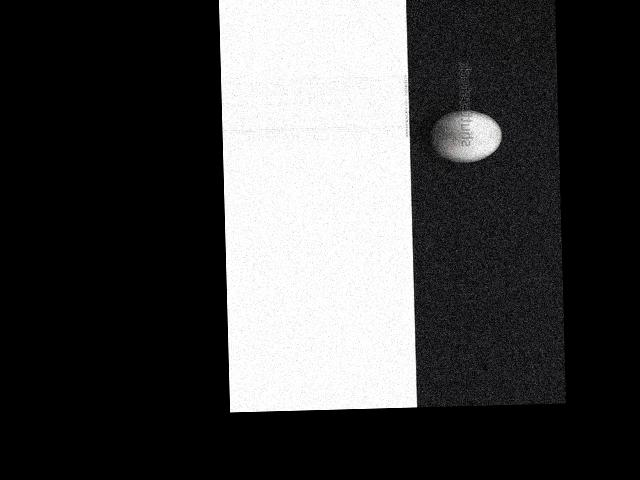egg: (430, 110, 503, 163)
